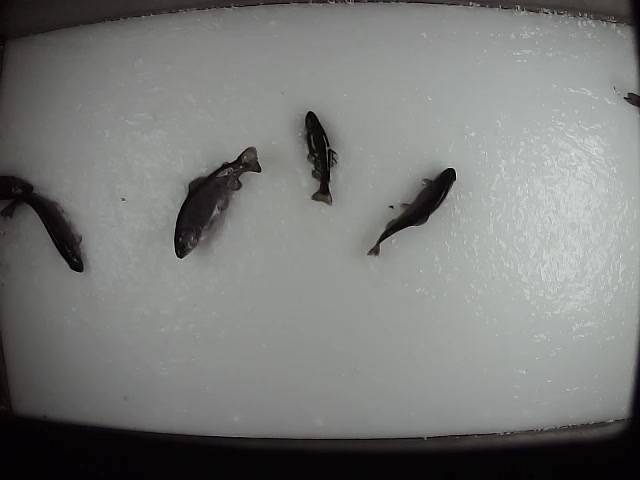fish: (171, 144, 264, 262), (364, 165, 457, 258), (1, 190, 86, 273), (300, 110, 337, 207)
